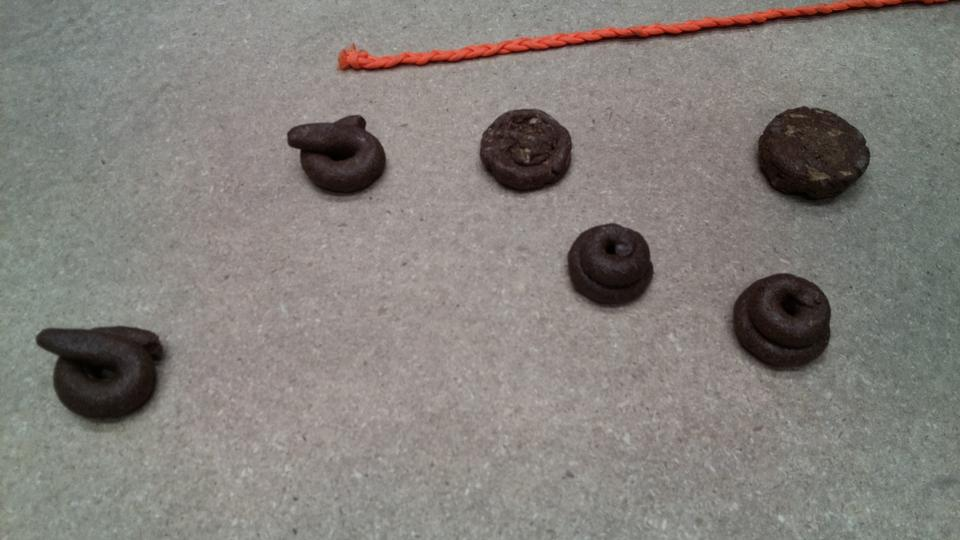poop: (32, 320, 169, 425), (753, 104, 874, 208), (728, 269, 836, 374), (283, 110, 391, 200), (476, 106, 578, 195), (564, 218, 656, 309)
rope: (334, 1, 882, 74)
